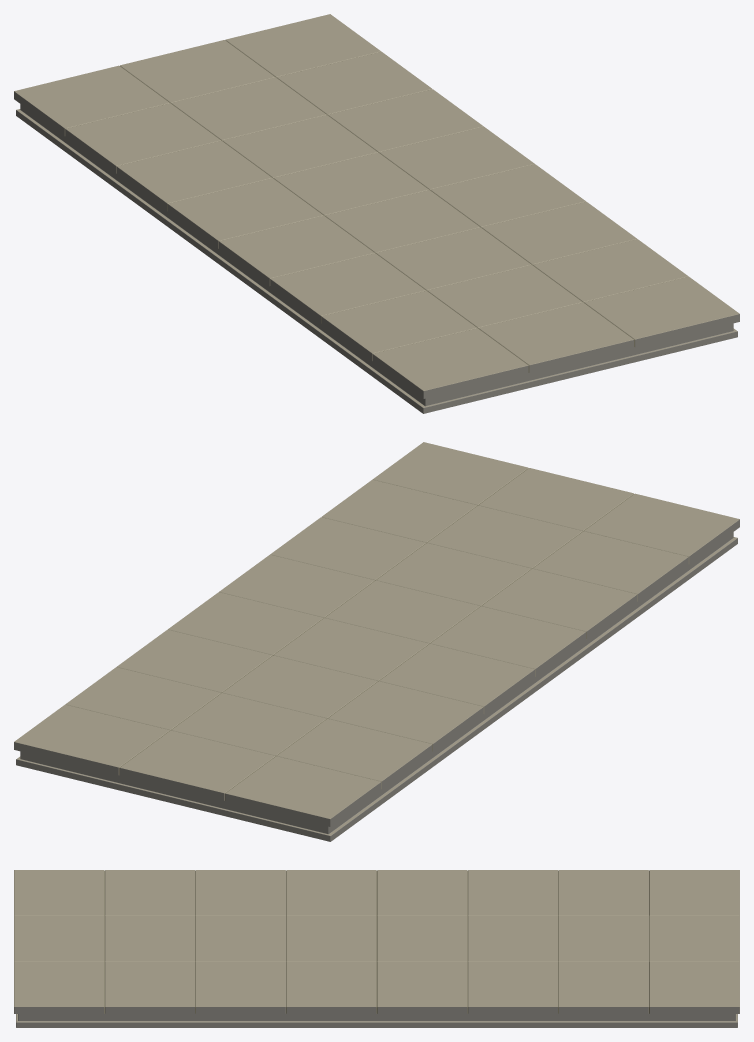
File: 3D_ground_station_2.fbx
The picture shows the model from 3 angles, top to bottom: view 1: azimuth 30°, elevation 25°; view 2: azimuth 150°, elevation 25°; view 3: azimuth 270°, elevation 25°; orthographic projection. The views are drawn at different scales.
Visible parts, largest first — view 1: Ground Top Layer, Ground Base Layer; view 2: Ground Top Layer, Ground Base Layer; view 3: Ground Top Layer, Ground Base Layer.
Part boxes in pixels (box(x1,y1,x2,y2)): Ground Top Layer: box(14, 14, 739, 398); Ground Base Layer: box(16, 104, 737, 413); Ground Top Layer: box(14, 442, 739, 826); Ground Base Layer: box(16, 532, 737, 841); Ground Top Layer: box(14, 870, 739, 1013); Ground Base Layer: box(16, 1013, 737, 1027).
Bounding box in the file's own units: 16.5 × 1.2 × 37.
